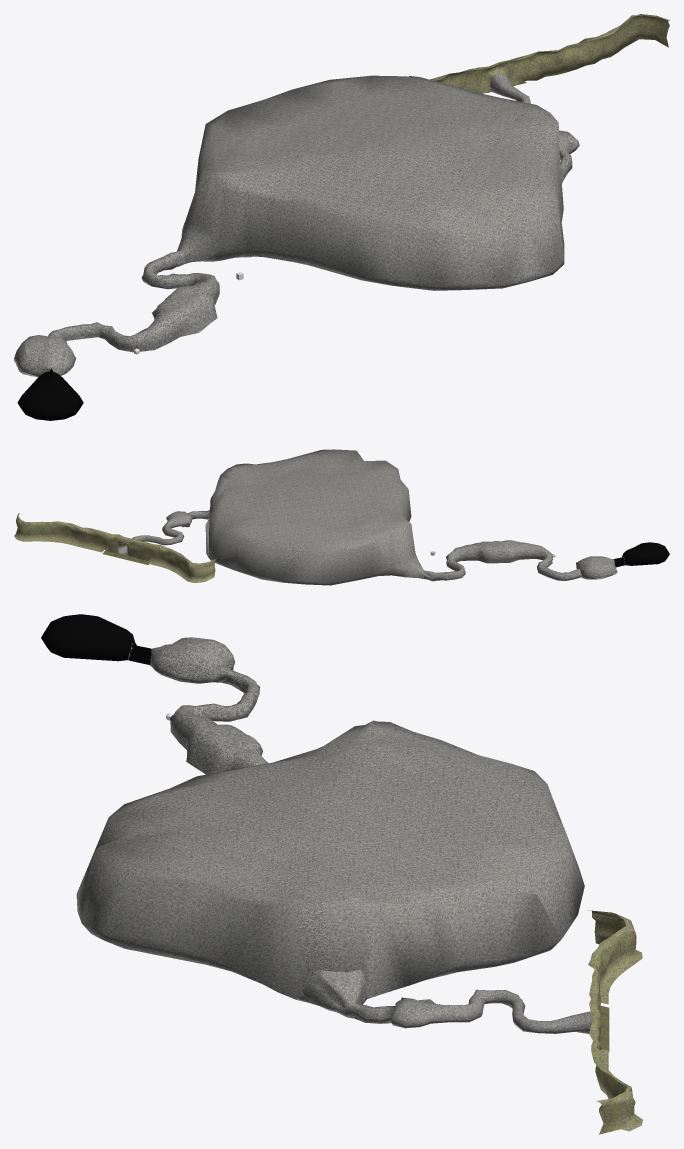
The model's file is Level_Geometry_08.FBX.
The picture shows the model from 3 angles, top to bottom: view 1: azimuth 30°, elevation 25°; view 2: azimuth 150°, elevation 25°; view 3: azimuth 270°, elevation 25°; orthographic projection. The views are drawn at different scales.
Parts seen in each view (by area): view 1: Cylinder001, Tunnel 01, cliff face, Void room, Second room cave, Big cave exit room, cave exit tunnel; view 2: Cylinder001, cliff face, Tunnel 01, Void room, Second room cave, cave exit tunnel, Big cave exit room, Plane001; view 3: Cylinder001, cliff face, Tunnel 01, Big cave exit room, Void room, Second room cave, cave exit tunnel.
Part boxes in pixels (x1,y1,x2,y2): Cylinder001: [177, 75, 564, 290]; Tunnel 01: [48, 251, 219, 352]; cliff face: [430, 14, 669, 93]; Void room: [17, 368, 83, 420]; Second room cave: [14, 335, 76, 376]; Big cave exit room: [559, 130, 579, 182]; cave exit tunnel: [490, 73, 530, 103]; Cylinder001: [205, 449, 424, 585]; cliff face: [14, 513, 216, 582]; Tunnel 01: [423, 540, 581, 581]; Void room: [614, 542, 669, 567]; Second room cave: [576, 556, 616, 578]; cave exit tunnel: [118, 521, 184, 554]; Big cave exit room: [166, 509, 209, 527]; Plane001: [102, 550, 150, 564]; Cylinder001: [76, 720, 584, 999]; cliff face: [588, 910, 642, 1134]; Tunnel 01: [170, 667, 268, 774]; Big cave exit room: [302, 969, 450, 1028]; Void room: [41, 614, 151, 665]; Second room cave: [150, 637, 234, 683]; cave exit tunnel: [449, 989, 592, 1033].
Size of the model in its own units: 32554 by 3236 by 16338.
